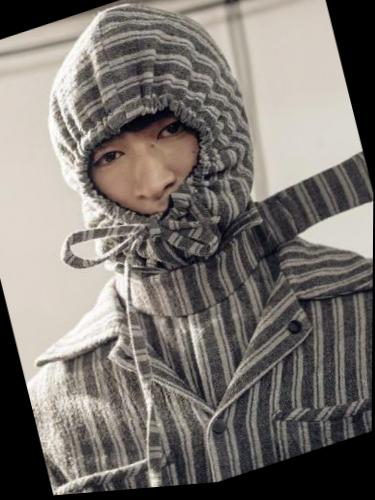WRONG: (71, 95, 244, 278)
